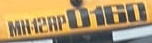character: (65, 7, 91, 29), (103, 3, 127, 24), (125, 2, 147, 22), (90, 4, 106, 27), (6, 19, 21, 37), (20, 18, 32, 35), (37, 16, 48, 33), (31, 17, 40, 35)
